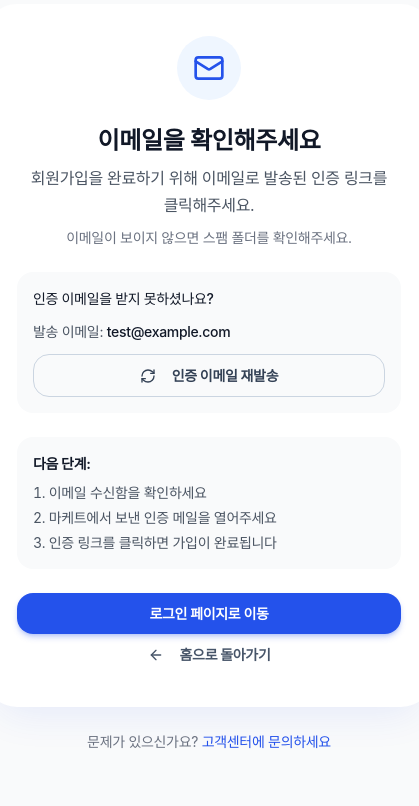
Test: VerifyEmailPage › 이메일 재발송 › 재발송 실패 시 에러 메시지가 표시된다
Step 1. Click the button "인증 이메일 재발송" → (209, 376), box [33,354,385,398]
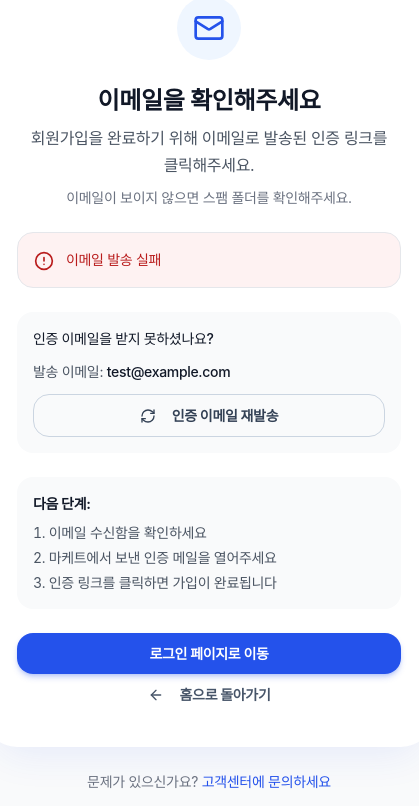
Now the text "이메일 발송 실패" is shown, box [66,250,161,270]
